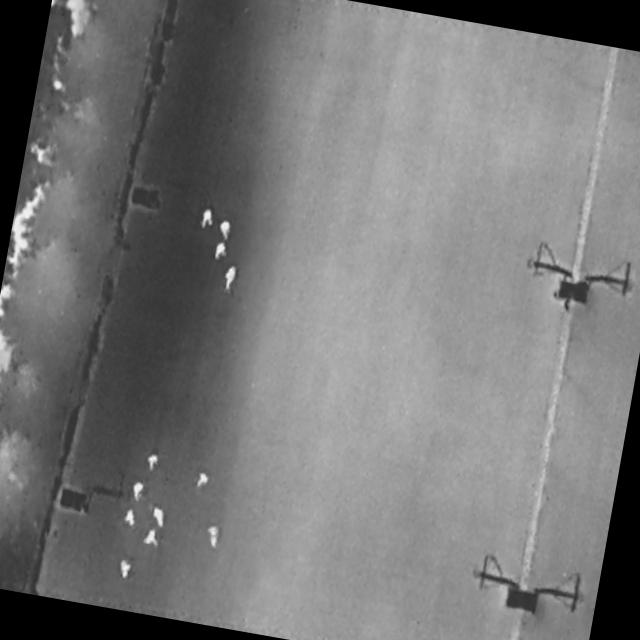person: (221, 261, 240, 294), (150, 505, 170, 532), (142, 527, 163, 552), (205, 524, 223, 549), (213, 239, 229, 262), (130, 480, 146, 503), (123, 506, 138, 528), (201, 209, 215, 232), (218, 220, 233, 241), (145, 453, 160, 474), (117, 560, 132, 581), (196, 472, 211, 490)
